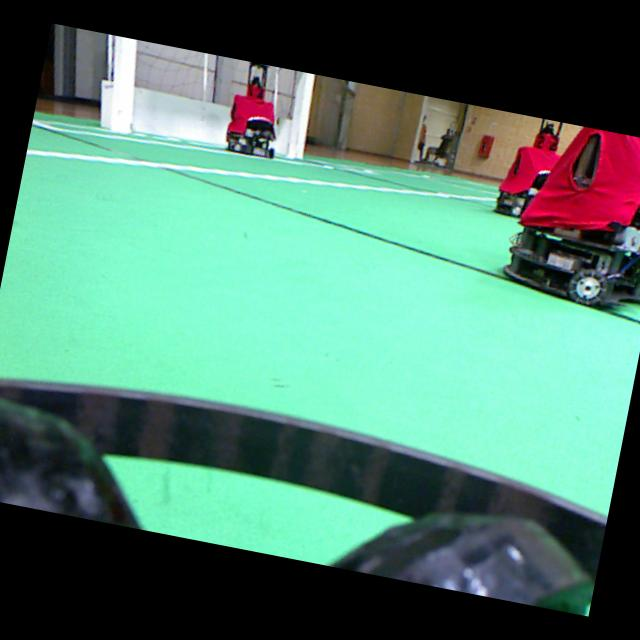goal: (110, 36, 137, 133), (286, 72, 314, 158)
